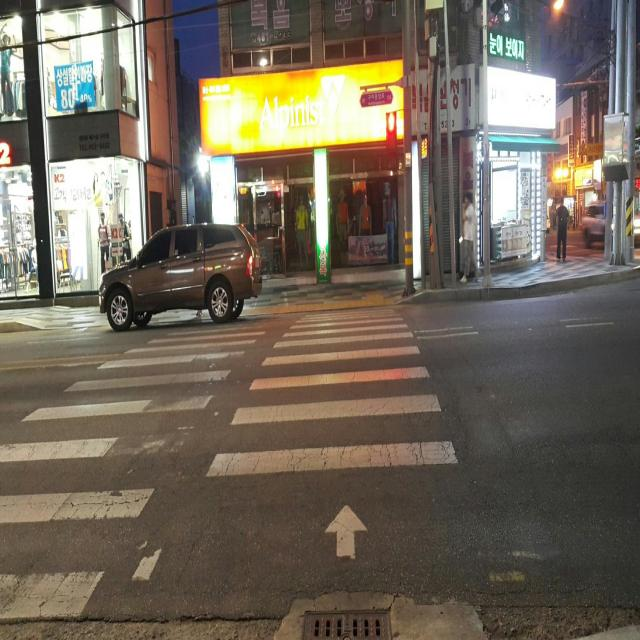빨간불: (380, 108, 400, 171)
횡단보도: (0, 304, 461, 639)
